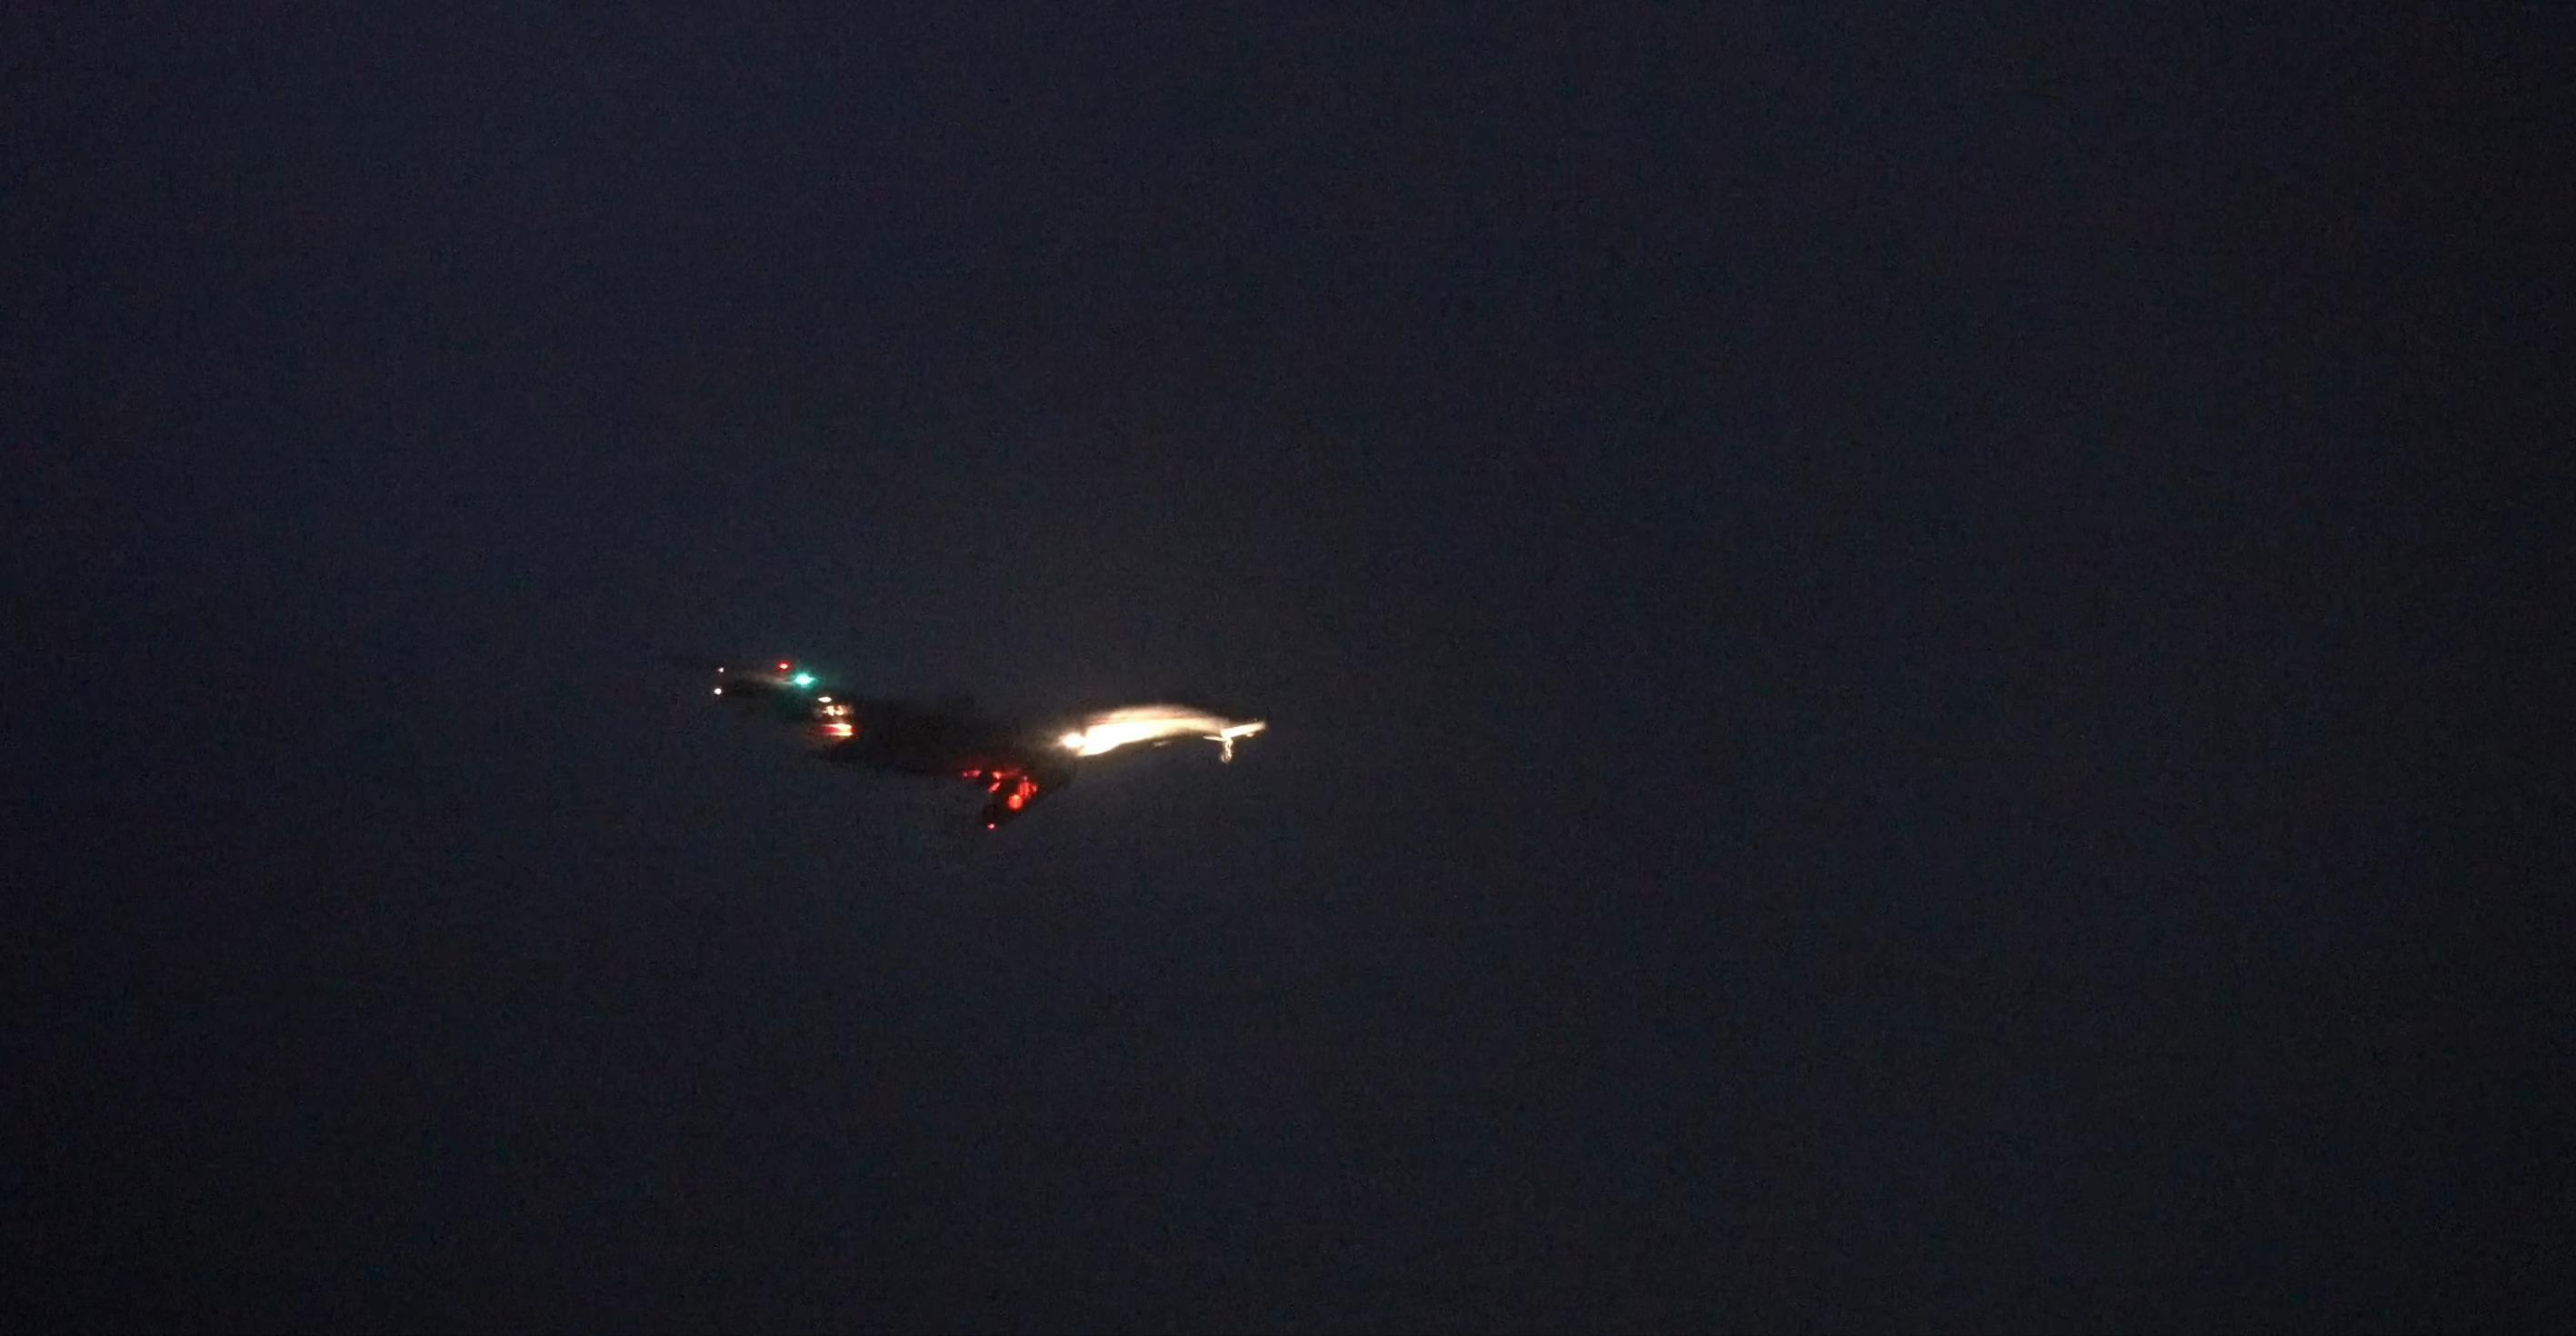Plane: (658, 625, 1382, 866)
